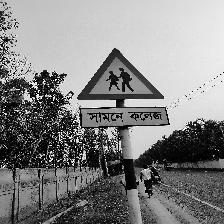College-in-front: (69, 42, 202, 139)
